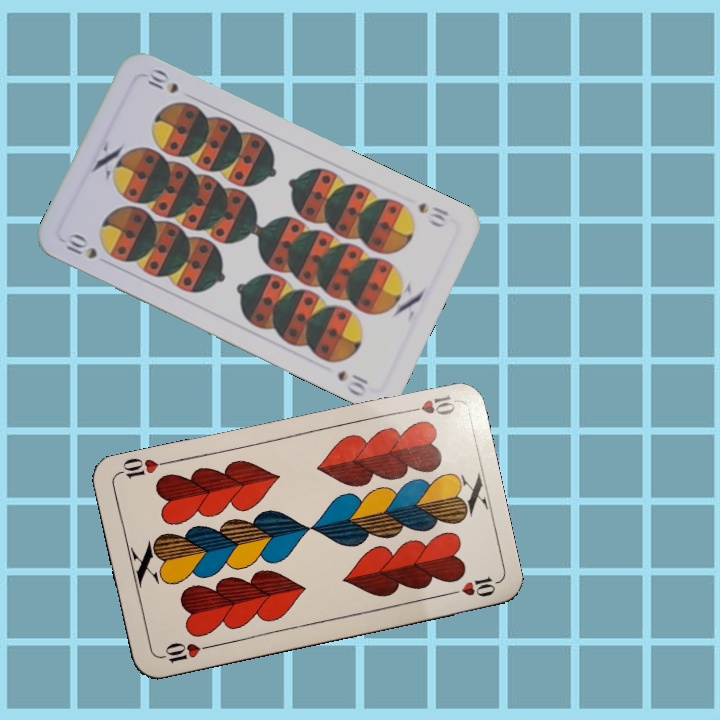H10: (156, 638, 214, 666), (399, 391, 458, 418)
S10: (62, 231, 100, 262), (414, 198, 451, 223)
